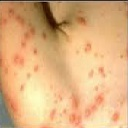Chickenpox: (4, 8, 43, 69), (63, 94, 107, 128), (88, 63, 114, 81), (73, 12, 91, 27)
